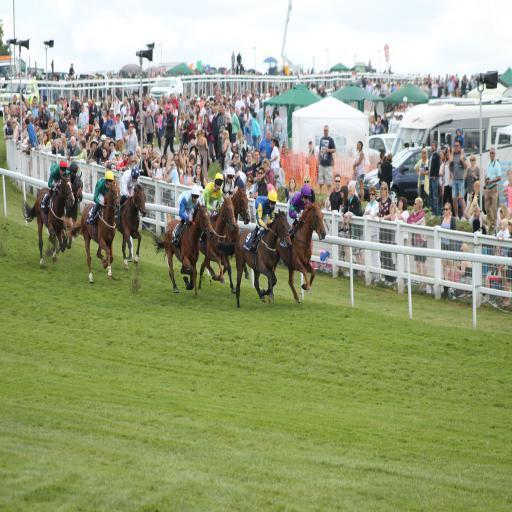horse: (212, 206, 292, 310), (62, 176, 121, 286), (152, 198, 213, 299), (267, 201, 326, 305), (198, 184, 252, 294), (19, 176, 76, 272), (114, 180, 147, 272), (52, 171, 84, 253)
